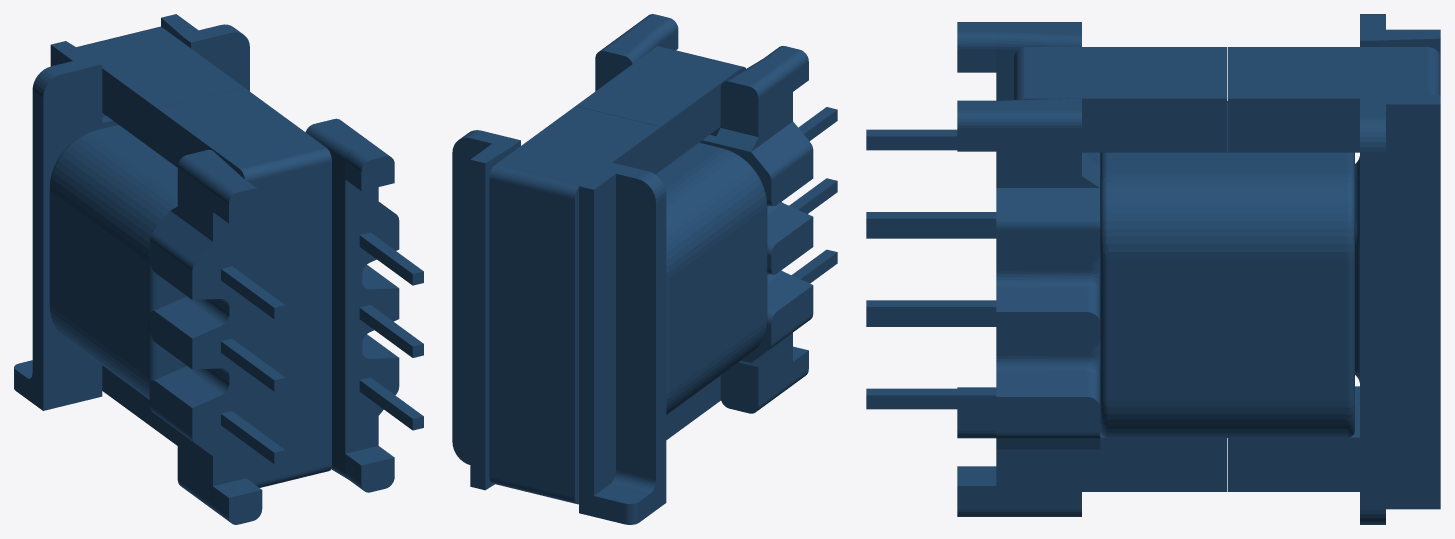
The model's file is transformer.glb.
3 views of the same model, side by side, from view 1: azimuth 30°, elevation 25°; view 2: azimuth 150°, elevation 25°; view 3: azimuth 270°, elevation 25° (orthographic). The views are drawn at different scales.
Parts seen in each view (by area): view 1: B78310P8078A002-T2988_SW0001; view 2: B78310P8078A002-T2988_SW0001; view 3: B78310P8078A002-T2988_SW0001.
Boxes of the visible parts, box(x1,y1,x2,y2) form: B78310P8078A002-T2988_SW0001: box(14, 14, 423, 524); B78310P8078A002-T2988_SW0001: box(452, 14, 837, 524); B78310P8078A002-T2988_SW0001: box(866, 14, 1440, 524).
Bounding box in the file's own units: 0.0112 × 0.0172 × 0.0221.
